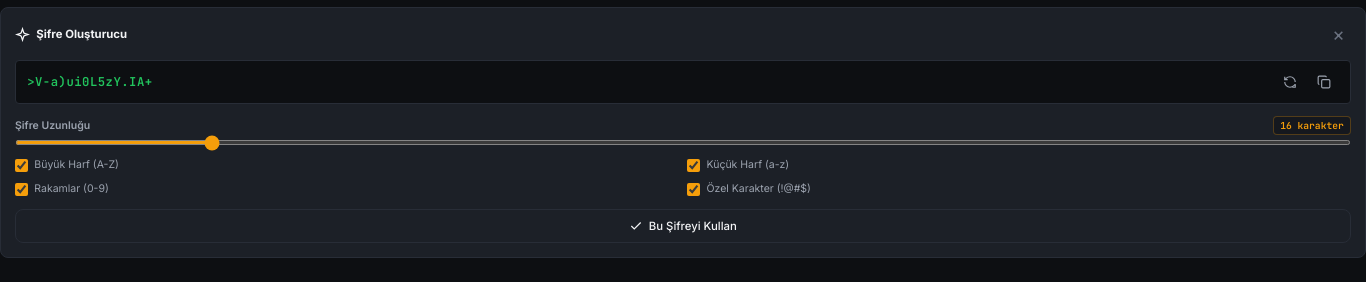
Scenario: PasswordGenerator Component › copies generated password to clipboard
What coordinates should you click on to do the following:
click the button named "üretilen şifreyi kopyala"
I would click on:
 (1324, 82)
Its box is [1309,69,1339,95].
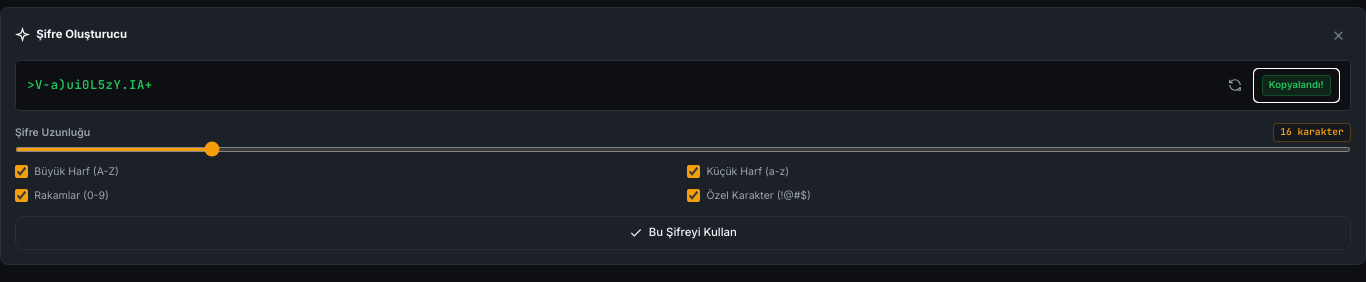
Check: the text "Kopyalandı!" is shown, box [1262,75,1331,96]
